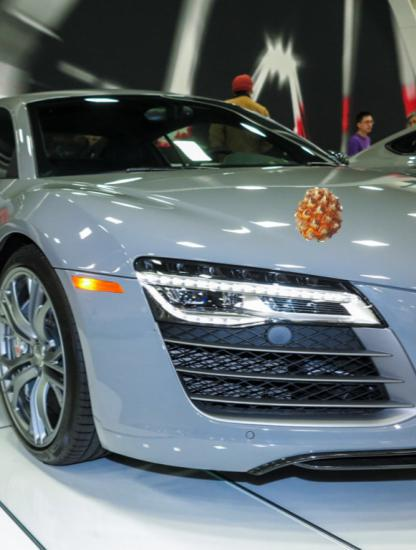Pineapple: (291, 187, 347, 243)
